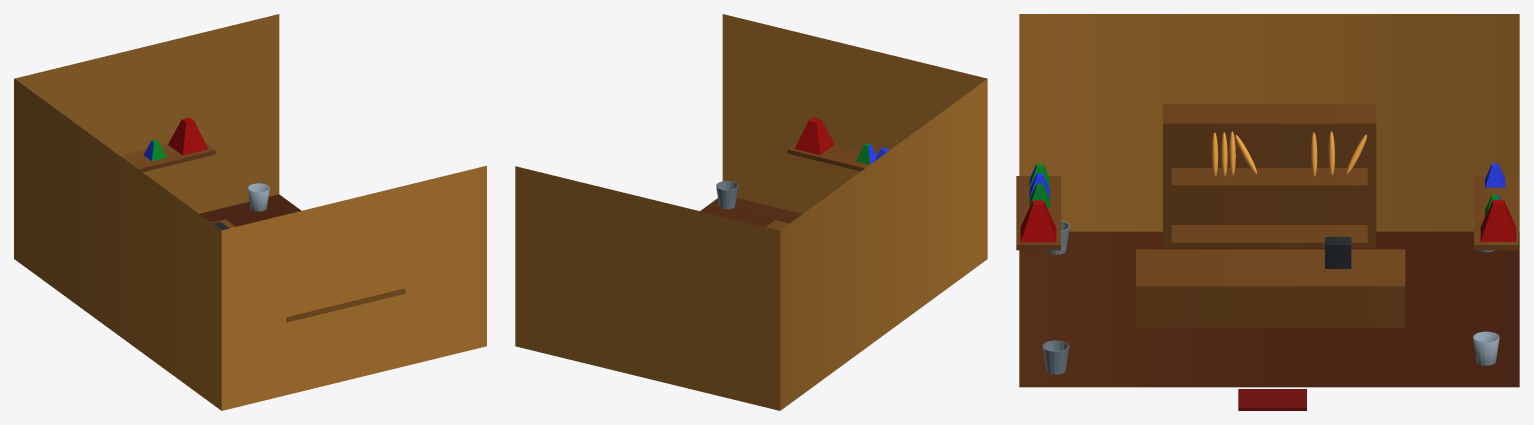
File: PanaderiaInterior.fbx
3 renders of one model, left to right at view 1: azimuth 30°, elevation 25°; view 2: azimuth 150°, elevation 25°; view 3: azimuth 270°, elevation 25°, orthographic. The views are drawn at different scales.
Parts seen in each view (by area): view 1: Plano.001, Plano.002, Cubo.008, Cubo.010, Cubo.009, Cilindro.007; view 2: Plano.001, Plano.002, Cubo.009, Cubo.004, Cilindro.001; view 3: Plano.001, Plano.002, Cubo.005, Cubo.006, Cubo.008, Cubo.009, Cubo, Cubo.004, Cubo.010, Cubo.007, Cilindro.001, Cilindro.007.
Boxes of the visible parts, x1,y1,x2,y2 form: Plano.001: [14, 14, 486, 410]; Plano.002: [199, 194, 301, 226]; Cubo.008: [120, 143, 215, 172]; Cubo.010: [168, 117, 207, 155]; Cubo.009: [286, 288, 405, 322]; Cilindro.007: [247, 183, 269, 211]; Plano.001: [515, 14, 987, 410]; Plano.002: [700, 198, 802, 226]; Cubo.009: [787, 142, 877, 171]; Cubo.004: [794, 117, 834, 155]; Cilindro.001: [716, 181, 738, 209]; Plano.001: [1019, 14, 1519, 231]; Plano.002: [1019, 231, 1519, 387]; Cubo.005: [1163, 104, 1376, 247]; Cubo.006: [1136, 249, 1405, 327]; Cubo.008: [1474, 176, 1518, 250]; Cubo.009: [1016, 176, 1060, 250]; Cubo: [1238, 389, 1306, 410]; Cubo.004: [1020, 200, 1056, 242]; Cubo.010: [1480, 200, 1516, 241]; Cubo.007: [1325, 237, 1351, 268]; Cilindro.001: [1042, 340, 1069, 374]; Cilindro.007: [1473, 331, 1499, 365].
Bounding box in the file's own units: 1883 × 1082 × 2251.
Materials: 6 (6 with a texture image).
